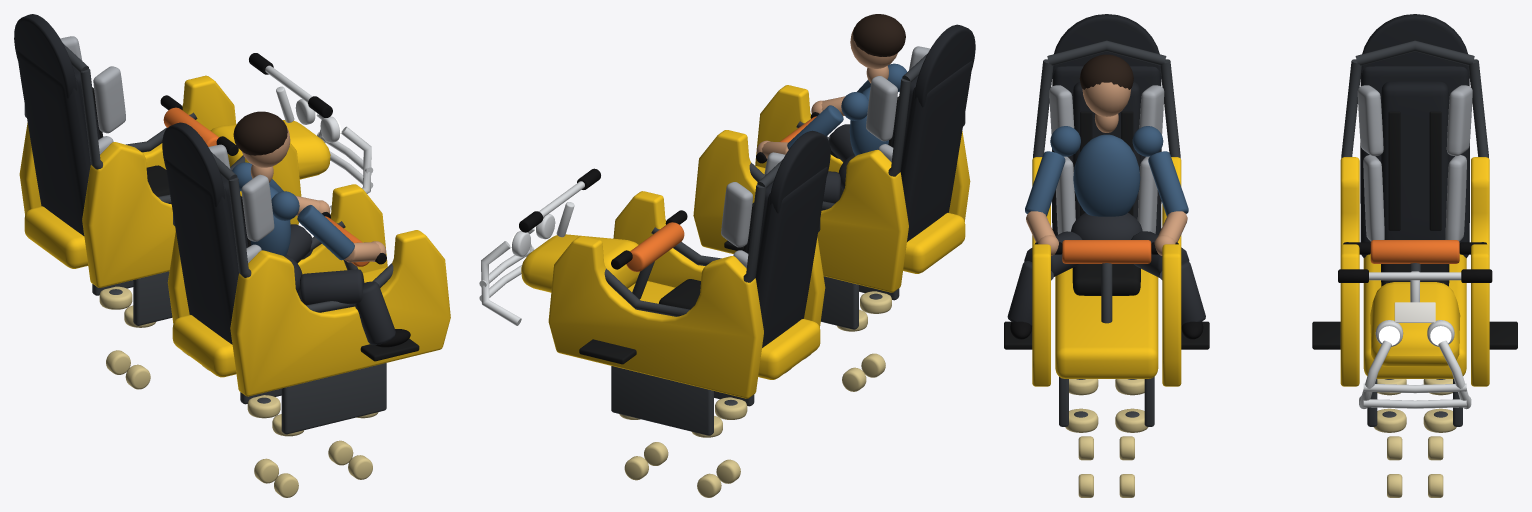
The model's file is railblazer_car.glb.
3 views of the same model, side by side, from view 1: azimuth 30°, elevation 25°; view 2: azimuth 150°, elevation 25°; view 3: azimuth 270°, elevation 25° (orthographic). The views are drawn at different scales.
Visible parts, largest first — view 1: Car_Pod-1, FrontCar_Pod-1, Car_Shell, FrontCar_Shell, Car_Bogie-1, Car_Pod1, FrontCar_Pod1, Car_SeatCrown, FrontCar_SeatCrown, Car_Tub, FrontCar_Tub, R_Leg-10.055 (+26 smaller); view 2: FrontCar_Pod1, Car_Pod1, FrontCar_Shell, Car_Shell, FrontCar_Bogie1, FrontCar_Pod-1, Car_Pod-1, FrontCar_Tub, FrontCar_Hood, FrontCar_SeatCrown, Car_SeatCrown, Car_Tub (+17 smaller); view 3: Car_Tub, FrontCar_Back, FrontCar_Hood, R_Torso, FrontCar_Pod-1, FrontCar_Pod1, FrontCar_SeatCrown, Car_Pod1, FrontCar_Shell, FrontCar_Tub, Car_SeatCrown, Car_Pod-1 (+48 smaller).
Boxes of the visible parts, bbox=[...] form: Car_Pod-1: bbox=[230, 230, 450, 396]; FrontCar_Pod-1: bbox=[82, 142, 301, 287]; Car_Shell: bbox=[165, 159, 238, 344]; FrontCar_Shell: bbox=[17, 51, 90, 235]; Car_Bogie-1: bbox=[281, 363, 386, 434]; Car_Pod1: bbox=[167, 184, 387, 323]; FrontCar_Pod1: bbox=[19, 75, 236, 215]; Car_SeatCrown: bbox=[162, 122, 224, 206]; FrontCar_SeatCrown: bbox=[14, 14, 76, 98]; Car_Tub: bbox=[172, 266, 387, 377]; FrontCar_Tub: bbox=[24, 206, 88, 268]; R_Leg-10.055: bbox=[300, 269, 364, 305]; FrontCar_Pod1: bbox=[548, 236, 763, 398]; Car_Pod1: bbox=[693, 130, 908, 292]; FrontCar_Shell: bbox=[755, 167, 827, 347]; Car_Shell: bbox=[900, 61, 972, 241]; FrontCar_Bogie1: bbox=[611, 366, 713, 435]; FrontCar_Pod-1: bbox=[613, 191, 825, 327]; Car_Pod-1: bbox=[755, 85, 970, 221]; FrontCar_Tub: bbox=[628, 281, 820, 379]; FrontCar_Hood: bbox=[521, 234, 639, 292]; FrontCar_SeatCrown: bbox=[769, 130, 830, 213]; Car_SeatCrown: bbox=[914, 24, 975, 107]; Car_Tub: bbox=[755, 165, 965, 273]; Car_Tub: bbox=[1055, 268, 1158, 378]; FrontCar_Back: bbox=[1381, 81, 1449, 239]; FrontCar_Hood: bbox=[1370, 282, 1460, 366]; R_Torso: bbox=[1073, 134, 1140, 216]; FrontCar_Pod-1: bbox=[1340, 157, 1359, 386]; FrontCar_Pod1: bbox=[1471, 157, 1489, 386]; FrontCar_SeatCrown: bbox=[1361, 14, 1469, 78]; Car_Pod1: bbox=[1162, 157, 1181, 386]; FrontCar_Shell: bbox=[1360, 66, 1469, 258]; FrontCar_Tub: bbox=[1363, 254, 1466, 378]; Car_SeatCrown: bbox=[1052, 14, 1160, 78]; Car_Pod-1: bbox=[1032, 157, 1050, 386].
Bounding box in the file's own units: 1.12 × 1.28 × 1.5.
Materials: 5 (5 with a texture image).
